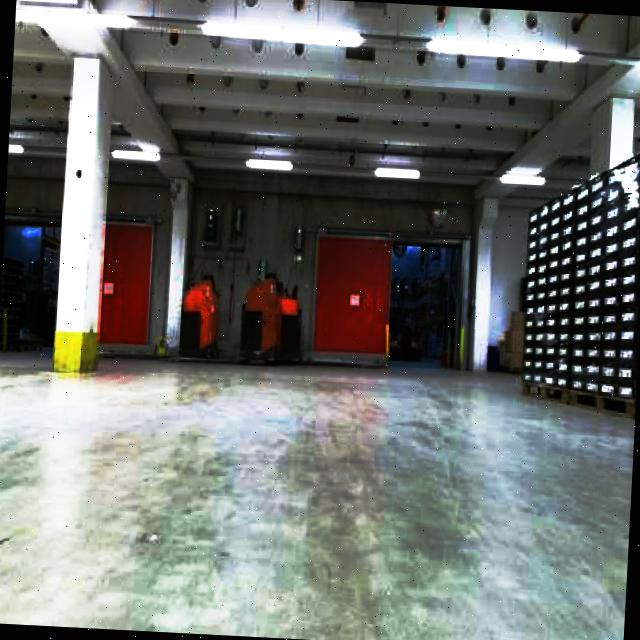ground: (0, 339, 636, 640)
pallet: (514, 138, 640, 418), (238, 273, 302, 365), (519, 377, 636, 418), (176, 276, 221, 358), (0, 256, 24, 350), (499, 308, 525, 372), (0, 303, 10, 351)
